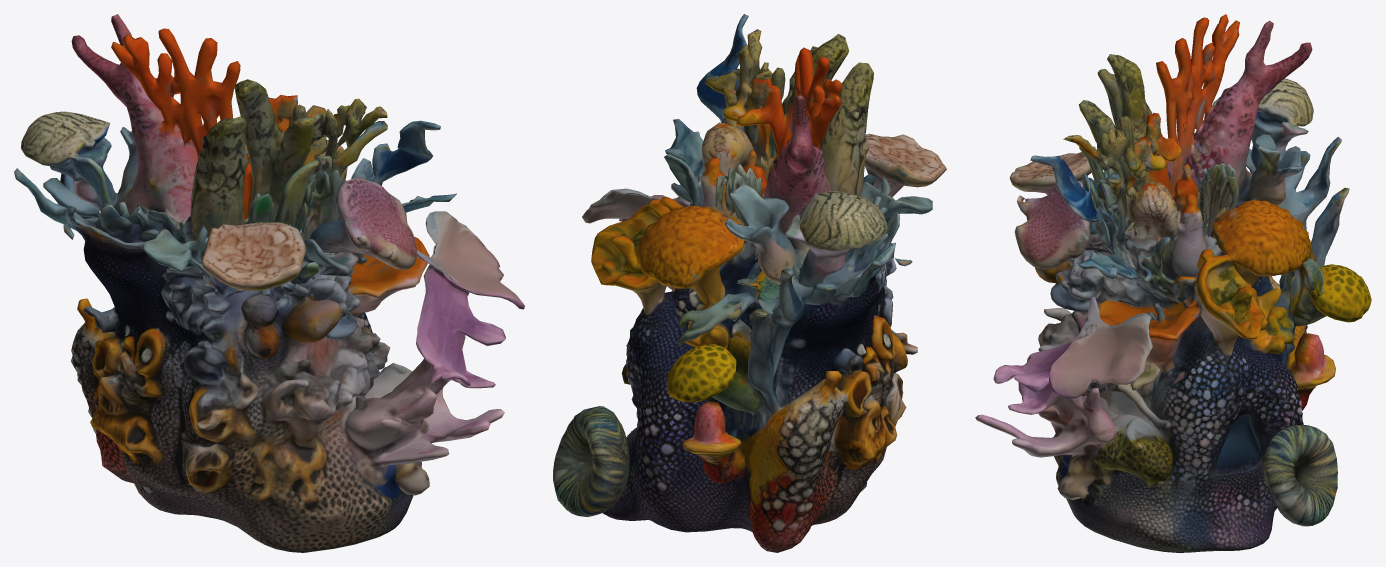
Rendered from coral2.glb.
3 renders of one model, left to right at view 1: azimuth 30°, elevation 25°; view 2: azimuth 150°, elevation 25°; view 3: azimuth 270°, elevation 25°, orthographic. The views are drawn at different scales.
Parts seen in each view (by area): view 1: tripo_node_8759ccd1-0d4d-4d6f-a373-cb16a34008bc; view 2: tripo_node_8759ccd1-0d4d-4d6f-a373-cb16a34008bc; view 3: tripo_node_8759ccd1-0d4d-4d6f-a373-cb16a34008bc.
Part boxes in pixels (box(x1,y1,x2,y2)): tripo_node_8759ccd1-0d4d-4d6f-a373-cb16a34008bc: box(14, 14, 524, 552); tripo_node_8759ccd1-0d4d-4d6f-a373-cb16a34008bc: box(553, 14, 946, 552); tripo_node_8759ccd1-0d4d-4d6f-a373-cb16a34008bc: box(975, 14, 1371, 552).
Bounding box in the file's own units: 0.8207 × 1 × 0.8076.
Materials: 1 (1 with a texture image).
